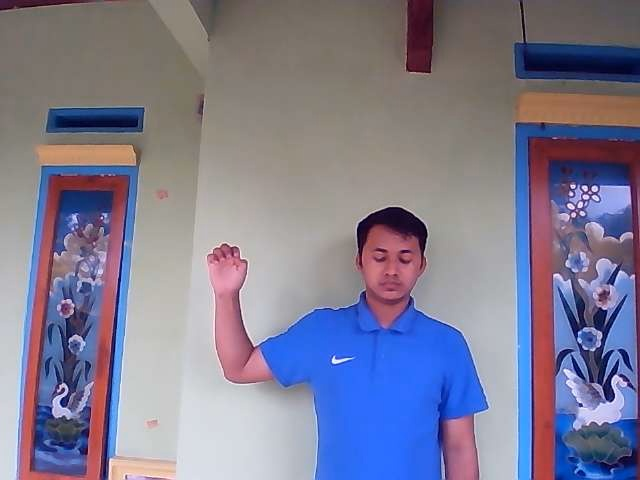E: (206, 242, 250, 292)
